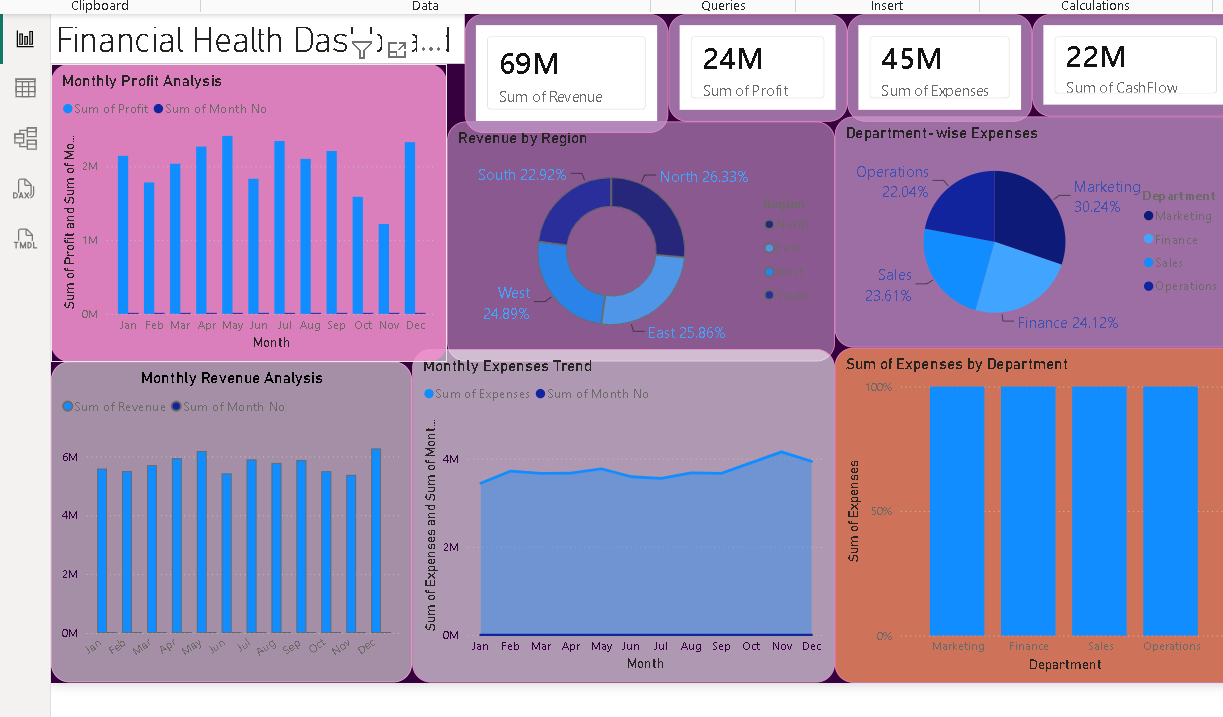

Layout of this report page (visuals, bound fields, positions):
{"tool":"powerbi","page":{"name":"Page 1","canvas":[1280,720],"ordinal":0},"visuals":[{"type":"textbox","box":[0,0,445.6,53.8],"z":0},{"type":"lineClusteredColumnComboChart","title":"Monthly Revenue Analysis","fields":{"Category":["FinancialData.Month"],"Y":["Sum(FinancialData.Revenue)","Sum(FinancialData.Month No)"]},"box":[0,374.3,389.1,346],"z":1000},{"type":"donutChart","title":"Revenue by Region","fields":{"Category":["FinancialData.Region"],"Y":["Sum(FinancialData.Revenue)"]},"box":[426.8,115.8,417.3,258.5],"z":2000},{"type":"pieChart","title":"Department-wise Expenses","fields":{"Category":["FinancialData.Department"],"Y":["Sum(FinancialData.Profit)"]},"box":[844.1,110.4,436.2,249.1],"z":3000},{"type":"hundredPercentStackedColumnChart","fields":{"Category":["FinancialData.Department"],"Y":["Sum(FinancialData.Expenses)"]},"box":[844.1,359.4,436.2,360.8],"z":4000},{"type":"areaChart","title":"Monthly Expenses Trend","fields":{"Category":["FinancialData.Month"],"Y":["Sum(FinancialData.Expenses)","Sum(FinancialData.Month No)"]},"box":[389.1,360.8,455,359.4],"z":5000},{"type":"lineClusteredColumnComboChart","title":"Monthly Profit Analysis","fields":{"Category":["FinancialData.Month"],"Y":["Sum(FinancialData.Profit)","Sum(FinancialData.Month No)"]},"box":[0,53.8,426.8,320.4],"z":6000},{"type":"cardVisual","fields":{"Data":["Sum(FinancialData.Revenue)"]},"box":[445.6,0,219.4,127.9],"z":7000},{"type":"cardVisual","fields":{"Data":["Sum(FinancialData.Profit)"]},"box":[665,0,192.5,115.8],"z":8000},{"type":"cardVisual","fields":{"Data":["Sum(FinancialData.Expenses)"]},"box":[857.6,0,199.2,115.8],"z":9000},{"type":"cardVisual","fields":{"Data":["Sum(FinancialData.CashFlow)"]},"box":[1056.8,0,223.5,110.4],"z":10000}]}

Visuals, with their boxes in screenshot pixels (x1, y1, x2, y2):
textbox: [45, 6, 464, 57]
"Monthly Revenue Analysis" lineClusteredColumnComboChart: [45, 359, 411, 685]
"Revenue by Region" donutChart: [447, 115, 840, 359]
"Department-wise Expenses" pieChart: [840, 110, 1222, 345]
hundredPercentStackedColumnChart - FinancialData.Department x Sum(FinancialData.Expenses): [840, 345, 1222, 685]
"Monthly Expenses Trend" areaChart: [411, 346, 840, 685]
"Monthly Profit Analysis" lineClusteredColumnComboChart: [45, 57, 447, 359]
cardVisual - Sum(FinancialData.Revenue): [464, 6, 671, 127]
cardVisual - Sum(FinancialData.Profit): [671, 6, 853, 115]
cardVisual - Sum(FinancialData.Expenses): [853, 6, 1040, 115]
cardVisual - Sum(FinancialData.CashFlow): [1040, 6, 1222, 110]
